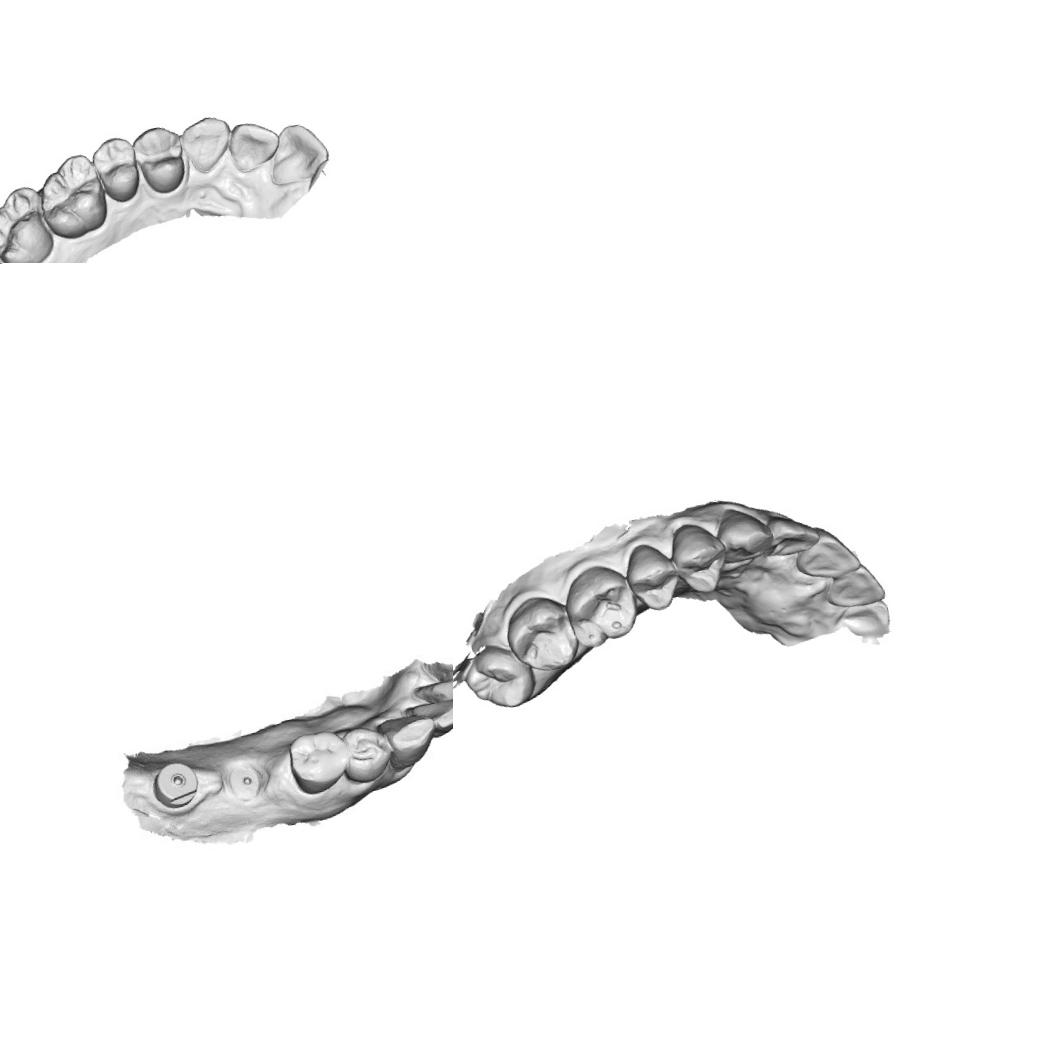canine: (712, 500, 778, 572), (174, 109, 237, 178), (374, 706, 438, 770)
implant: (151, 755, 202, 812), (222, 756, 272, 804)
incisor: (259, 116, 334, 189), (788, 520, 862, 588), (818, 558, 888, 614), (224, 115, 286, 176), (759, 505, 824, 563), (832, 594, 894, 644), (404, 687, 453, 743), (421, 670, 453, 709)
molar: (556, 557, 643, 653), (30, 148, 113, 244), (498, 590, 584, 680), (457, 636, 537, 716), (0, 180, 58, 263)
premolar: (662, 516, 733, 600), (618, 536, 685, 617), (127, 121, 191, 198), (284, 725, 352, 794), (86, 132, 144, 207), (341, 726, 392, 780)
